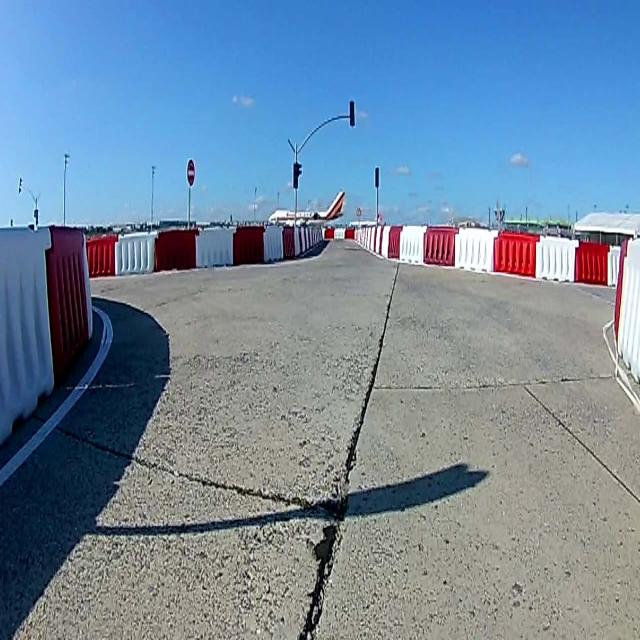girisyok: (186, 158, 196, 188)
